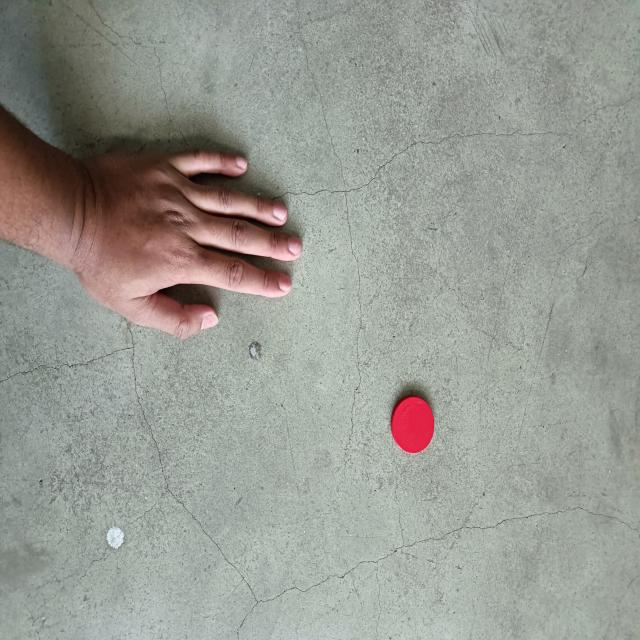chip: (392, 396, 434, 456)
